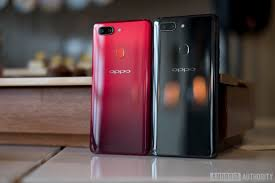oppo: (90, 16, 154, 159), (151, 17, 215, 160)
